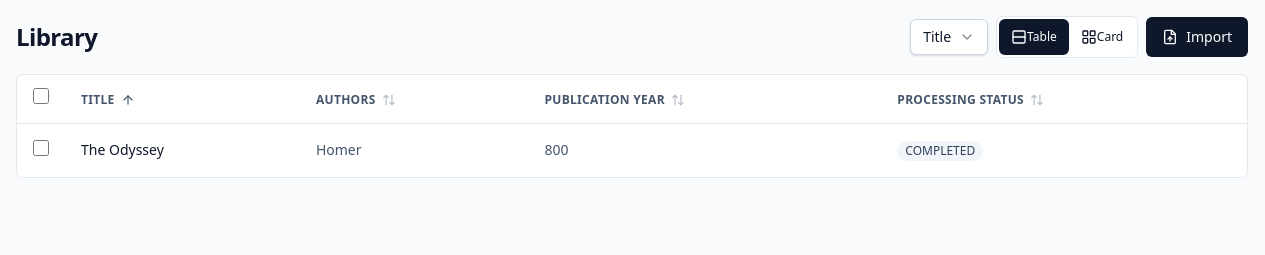
it: library route › shows the selection toolbar after selecting all and clears it
Click the checkbox with test id "select-all".
click(41, 96)  # box [33,88,49,104]
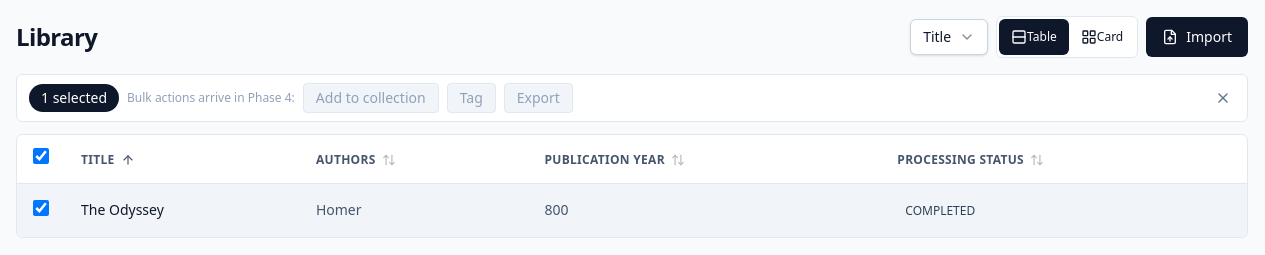
Now the element with test id "selection-toolbar" is shown, box [16,74,1248,122]
Now the text with test id "selection-count" reads "1 selected", box [29,84,119,112]
Click the button with test id "selection-clear".
click(1223, 98)  # box [1211,86,1235,110]
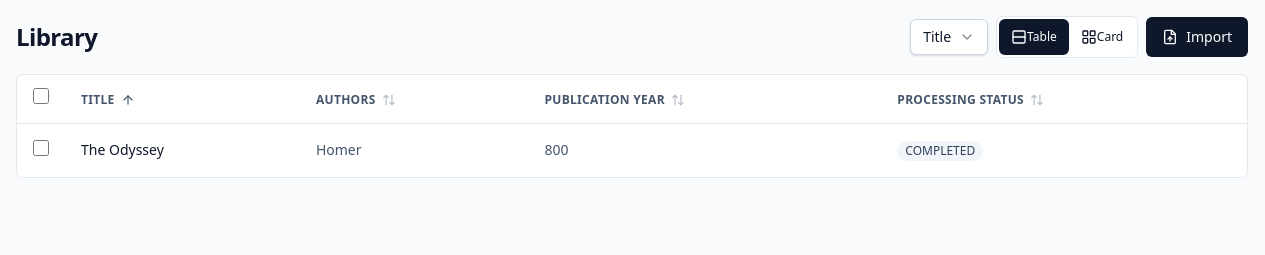
Now the element with test id "selection-toolbar" is gone
